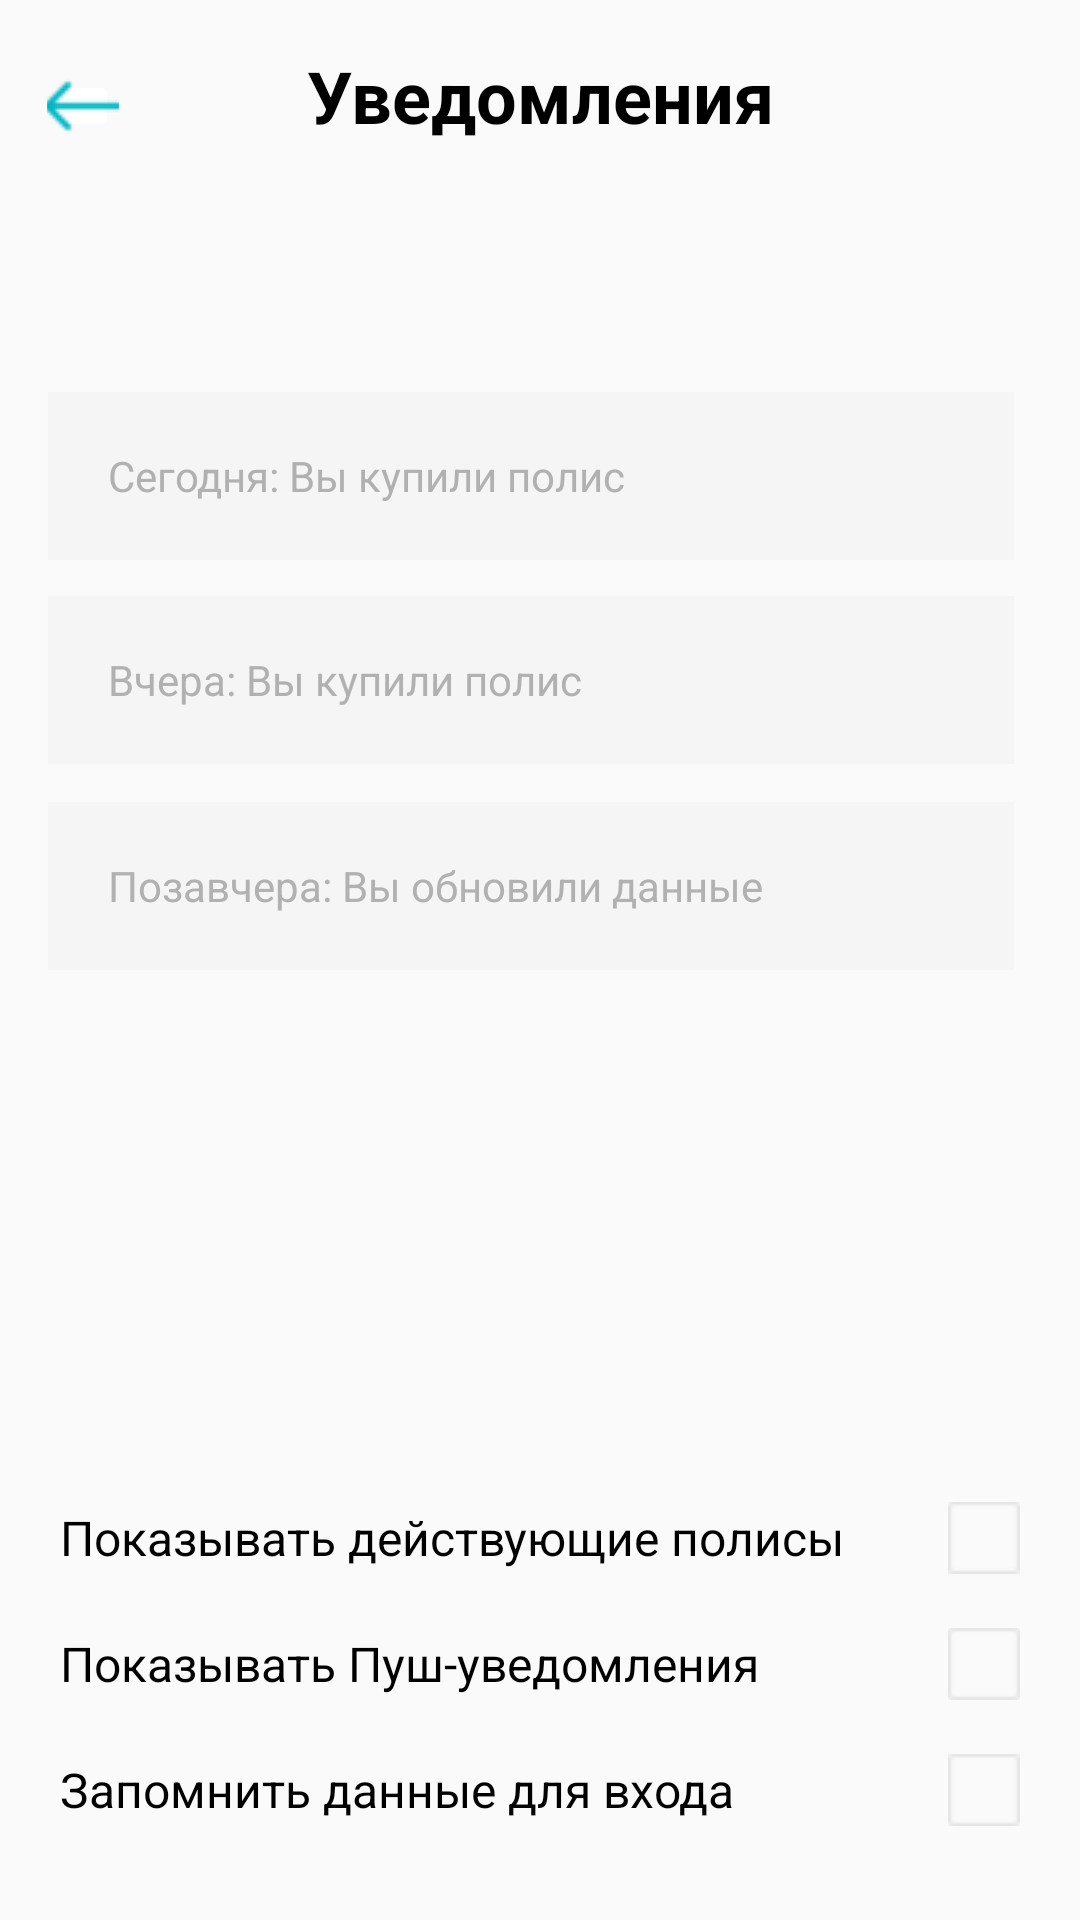

Icons on this 1080 x 1920 Android screen, each with the point to tap as [x,y]:
back: [83,106]
